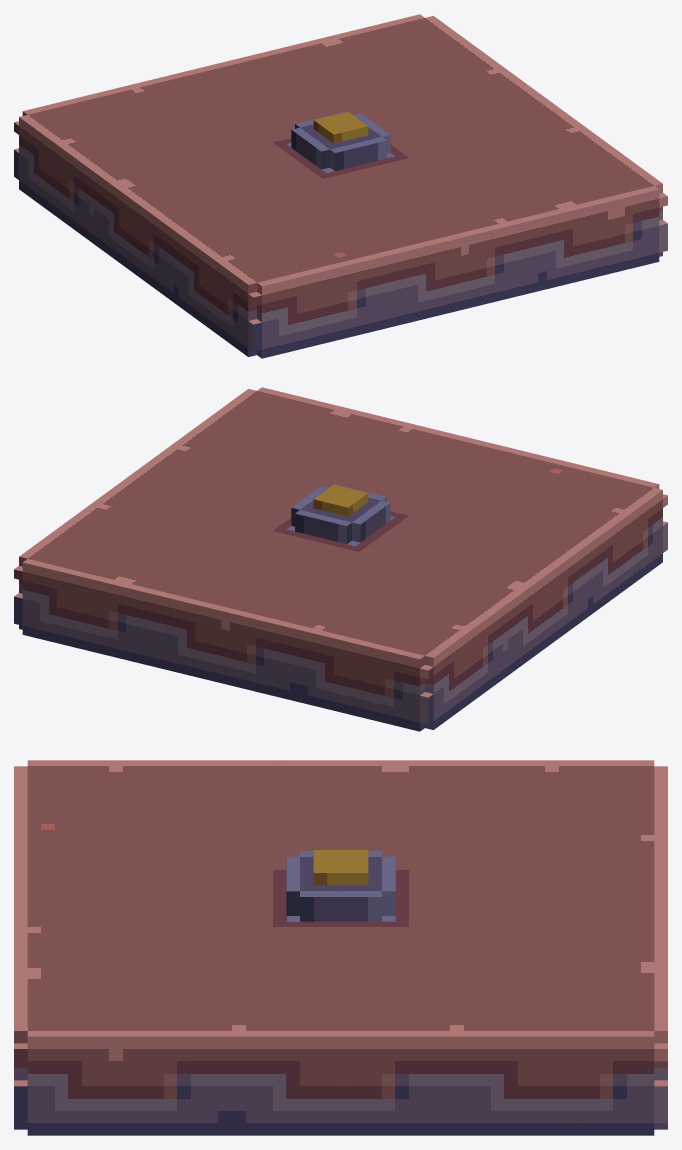
File: rotato_3x3ao.fezao.glb
3 renders of one model, top to bottom at view 1: azimuth 30°, elevation 25°; view 2: azimuth 150°, elevation 25°; view 3: azimuth 270°, elevation 25°, orthographic. The views are drawn at different scales.
Visible parts, largest first — view 1: ROTATO_3X3AO; view 2: ROTATO_3X3AO; view 3: ROTATO_3X3AO.
Part boxes in pixels (<box>): ROTATO_3X3AO: <box>14,14,667,358</box>; ROTATO_3X3AO: <box>14,387,667,731</box>; ROTATO_3X3AO: <box>14,760,667,1135</box>.
Bounding box in the file's own units: 3 × 0.875 × 3.
1 material, 1 textured.
